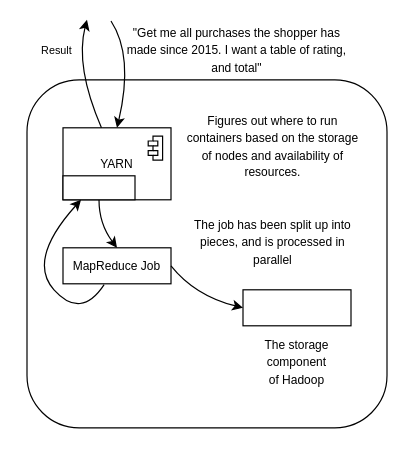
The diagram is 408 pixels wide and 449 high, and some of its shapes have lost their labels. The centre of each missing label's shape, as x and y in pixels:
"App Master" belongs at [98,187].
"HDFS" belongs at [296,307].
